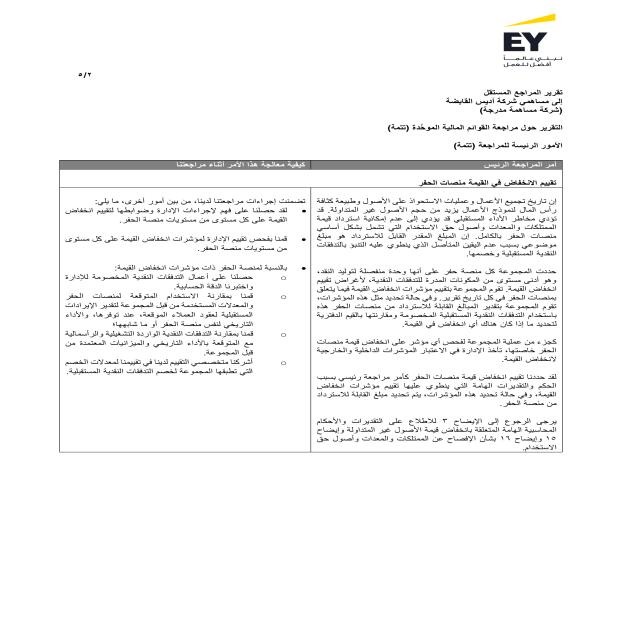auditor_report: (437, 140, 573, 153), (476, 83, 565, 98)
